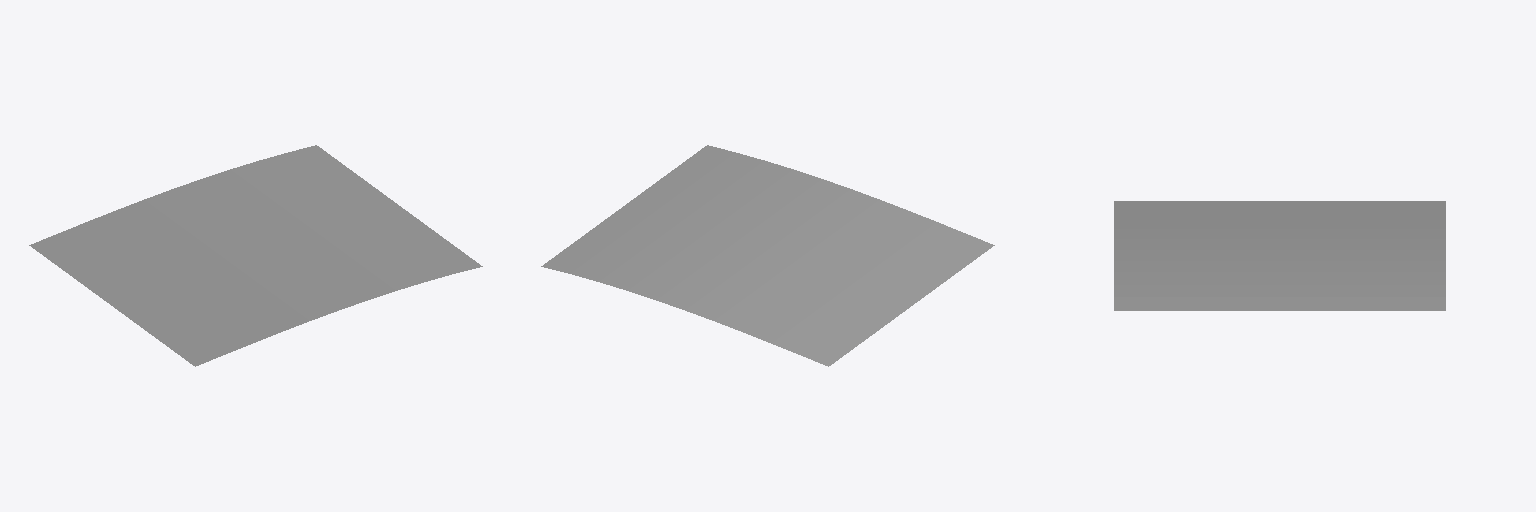
Rendered from track_ramp_top.obj.
The picture shows the model from 3 angles: view 1: azimuth 30°, elevation 25°; view 2: azimuth 150°, elevation 25°; view 3: azimuth 270°, elevation 25°; orthographic projection.
Visible parts, largest first — view 1: Road_Plane.002, Grass_Plane.015, Grass.001_Plane.000; view 2: Road_Plane.002, Grass.001_Plane.000, Grass_Plane.015; view 3: Road_Plane.002, Grass.001_Plane.000, Grass_Plane.015.
Boxes of the visible parts, <box> form: Road_Plane.002: <box>63,169,448,341</box>; Grass_Plane.015: <box>29,145,348,269</box>; Grass.001_Plane.000: <box>162,242,482,366</box>; Road_Plane.002: <box>575,169,960,341</box>; Grass.001_Plane.000: <box>675,145,994,269</box>; Grass_Plane.015: <box>541,242,861,366</box>; Road_Plane.002: <box>1180,201,1379,310</box>; Grass.001_Plane.000: <box>1114,201,1179,310</box>; Grass_Plane.015: <box>1380,201,1445,310</box>.
Bounding box in the file's own units: 10 × 1 × 10.